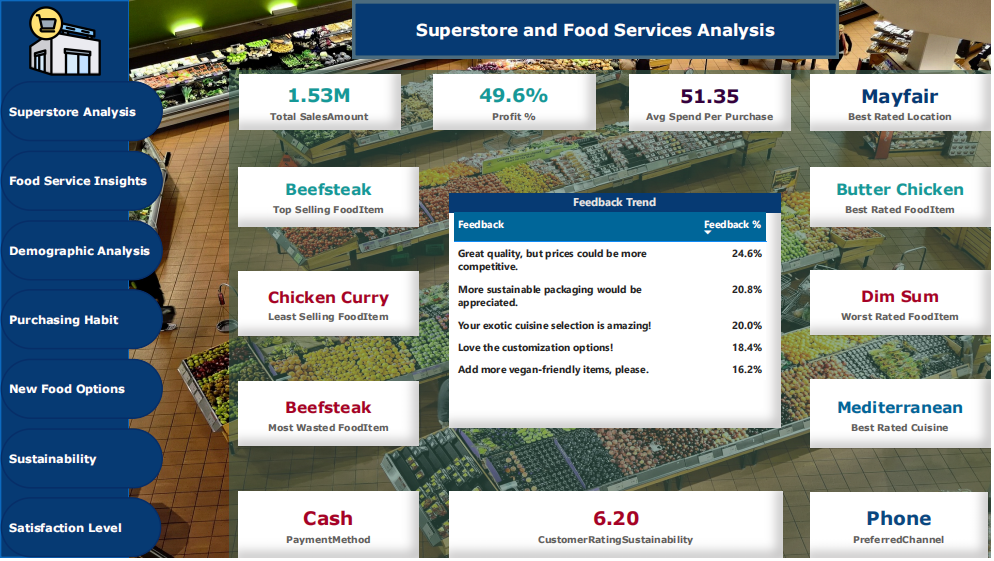

This screenshot's page, from the dashboard's own definition file:
{"tool":"powerbi","page":{"name":"Menu","canvas":[1280,720],"ordinal":0},"visuals":[{"type":"shape","box":[0,0,166.3,720],"z":0,"group":"g1"},{"type":"shape","box":[296.4,89.6,983.1,630.4],"z":0},{"type":"group","id":"g1","title":"Group 2","box":[0,0,166.3,720],"z":1000,"group":"g4"},{"type":"shape","box":[455.4,0,628.9,75.2],"z":1000},{"type":"shape","box":[0,283.4,209.6,78],"z":1000,"group":"g3"},{"type":"card","fields":{"Values":["Sum(Superstore Analysis.SalesAmount)"]},"box":[308,95.4,209,72],"z":2000},{"type":"group","id":"g2","title":"Group 1","box":[0,104.1,209.6,615.9],"z":2000,"group":"g4"},{"type":"shape","box":[0,373.1,209.6,78],"z":2000,"group":"g3"},{"type":"image","box":[0,0,166.3,104.1],"z":2001,"group":"g1"},{"type":"group","id":"g3","title":"Group 3","box":[0,193.8,209.6,526.2],"z":2003,"group":"g2"},{"type":"card","fields":{"Values":["Superstore Analysis.Profit %"]},"box":[560.3,95.4,209,72],"z":3000},{"type":"shape","box":[0,462.7,209.6,78],"z":3000,"group":"g3"},{"type":"shape","box":[0,104.1,209.6,78.1],"z":4000,"group":"g2"},{"type":"card","fields":{"Values":["Min(Superstore Analysis.ItemName)"]},"box":[308,215.4,232.8,76.6],"z":4000},{"type":"shape","box":[0,193.8,209.6,78],"z":5000,"group":"g3"},{"type":"card","fields":{"Values":["Min(Superstore Analysis.ItemName)"]},"box":[308,350.4,232.8,83.9],"z":5000},{"type":"card","fields":{"Values":["Min(Superstore Analysis.ItemName)"]},"box":[308.4,492.5,232.8,83.9],"z":6000},{"type":"shape","box":[0,552.3,209.6,78],"z":6000,"group":"g3"},{"type":"card","fields":{"Values":["Avg(Purchasing Habits.AverageSpendPerPurchase)"]},"box":[812.6,95.4,209.6,72.3],"z":7000},{"type":"shape","box":[0,641.9,208.5,78.1],"z":7000,"group":"g3"},{"type":"card","fields":{"Values":["Min(Purchasing Habits.PreferredChannel)"]},"box":[1046.7,636.1,229.9,83.9],"z":8000},{"type":"card","fields":{"Values":["Min(Purchasing Habits.PaymentMethod)"]},"box":[308,634.7,232.8,85.3],"z":9000},{"type":"card","fields":{"Values":["Avg(Sustainability Preferences.CustomerRatingSustainability)"]},"box":[581.2,634.7,429.4,85.3],"z":10000},{"type":"tableEx","title":"Feedback Trend ","fields":{"Values":["Satisfaction.Feedback","Satisfaction.Feedback %"]},"box":[581.2,248.7,426.5,303.6],"z":11000},{"type":"card","fields":{"Values":["Min(Food Service Insights.FoodItem)"]},"box":[1046.7,215.4,232.8,76.6],"z":12000},{"type":"card","fields":{"Values":["Min(Food Service Insights.FoodItem)"]},"box":[1046.7,348.9,232.8,83.9],"z":13000},{"type":"card","fields":{"Values":["Min(Food Service Insights.Cuisine)"]},"box":[1047.2,489.6,232.8,89.6],"z":14000},{"type":"card","fields":{"Values":["Min(Food Service Insights.Location)"]},"box":[1046.7,95.4,232.8,72.3],"z":15000},{"type":"group","id":"g4","title":"Group 4","box":[0,0,208.2,720],"z":16000}]}

Visuals, with their boxes in screenshot pixels (x1, y1, x2, y2), scaled from the page's 1280x720 canvas onto the 994x561 screenshot:
shape: region(0, 0, 129, 560)
shape: region(230, 70, 993, 560)
"Group 2" group: region(0, 0, 129, 560)
shape: region(354, 0, 842, 59)
shape: region(0, 221, 163, 282)
card - Sum(Superstore Analysis.SalesAmount): region(239, 74, 401, 130)
"Group 1" group: region(0, 81, 163, 560)
shape: region(0, 291, 163, 351)
image: region(0, 0, 129, 81)
"Group 3" group: region(0, 151, 163, 560)
card - Superstore Analysis.Profit %: region(435, 74, 597, 130)
shape: region(0, 361, 163, 421)
shape: region(0, 81, 163, 142)
card - Min(Superstore Analysis.ItemName): region(239, 168, 420, 228)
shape: region(0, 151, 163, 212)
card - Min(Superstore Analysis.ItemName): region(239, 273, 420, 338)
card - Min(Superstore Analysis.ItemName): region(239, 384, 420, 449)
shape: region(0, 430, 163, 491)
card - Avg(Purchasing Habits.AverageSpendPerPurchase): region(631, 74, 794, 131)
shape: region(0, 500, 162, 560)
card - Min(Purchasing Habits.PreferredChannel): region(813, 496, 991, 560)
card - Min(Purchasing Habits.PaymentMethod): region(239, 495, 420, 560)
card - Avg(Sustainability Preferences.CustomerRatingSustainability): region(451, 495, 785, 560)
"Feedback Trend " tableEx: region(451, 194, 783, 430)
card - Min(Food Service Insights.FoodItem): region(813, 168, 993, 228)
card - Min(Food Service Insights.FoodItem): region(813, 272, 993, 337)
card - Min(Food Service Insights.Cuisine): region(813, 381, 993, 451)
card - Min(Food Service Insights.Location): region(813, 74, 993, 131)
"Group 4" group: region(0, 0, 162, 560)
